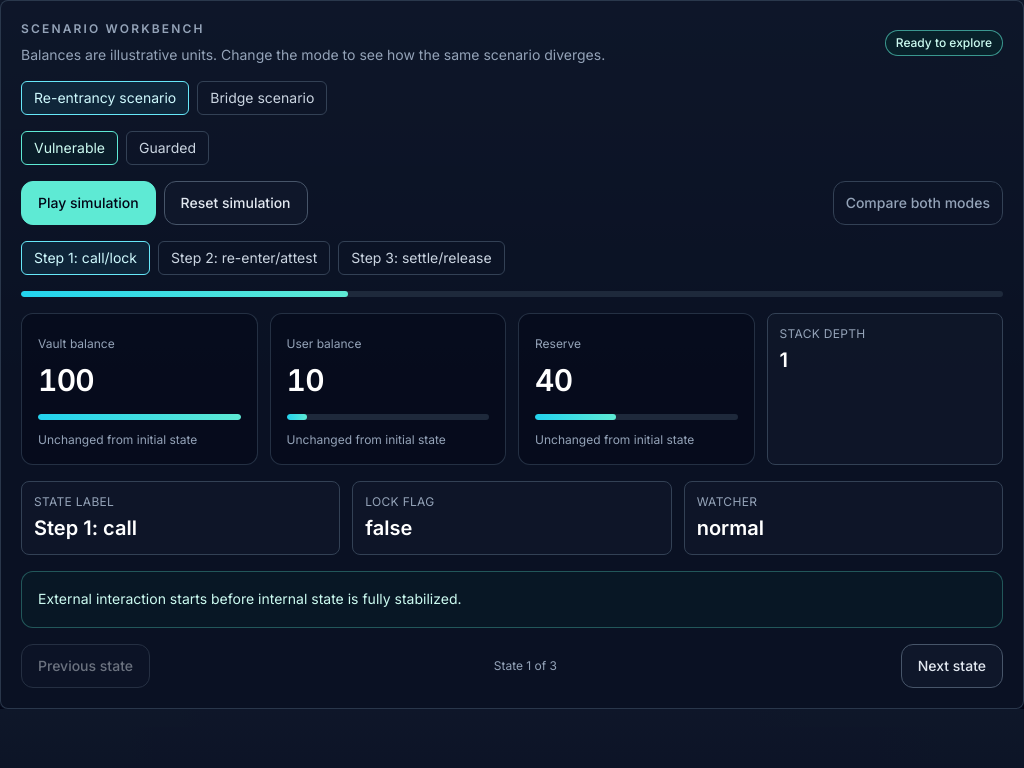
Test case: concept lab visualizer › updates state when mode and step change
Click the button "guarded" at (167, 148), box [126,131,209,165]
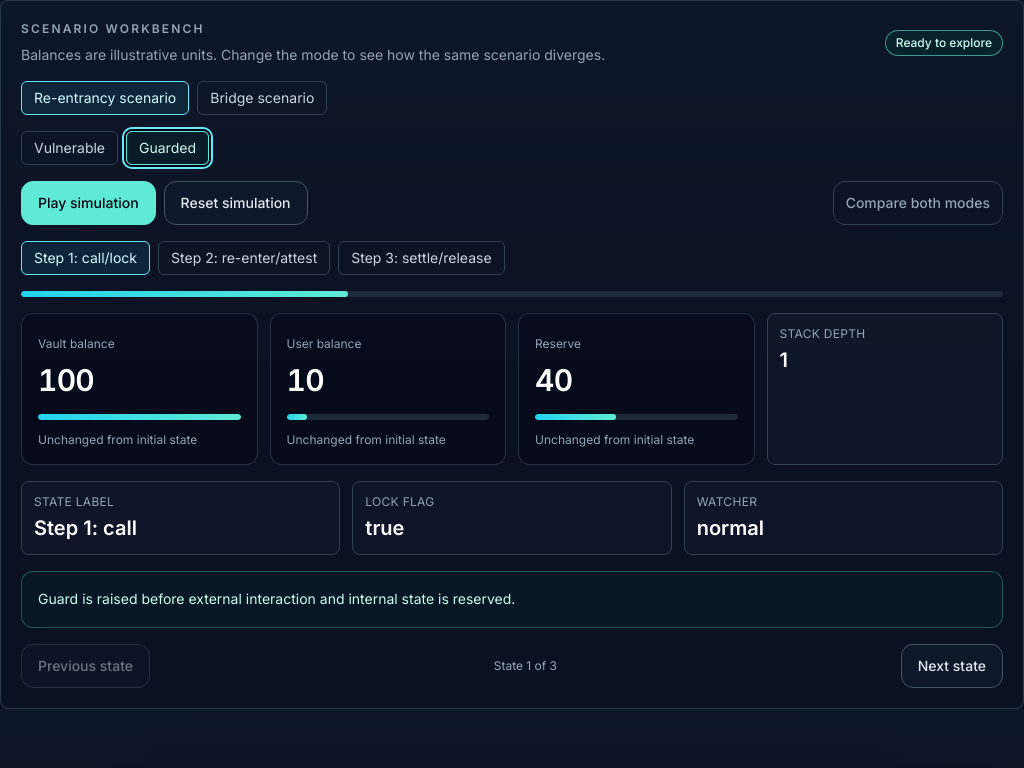
Click the button "Step 2: re-enter/attest" at (244, 258), box [158,241,330,275]
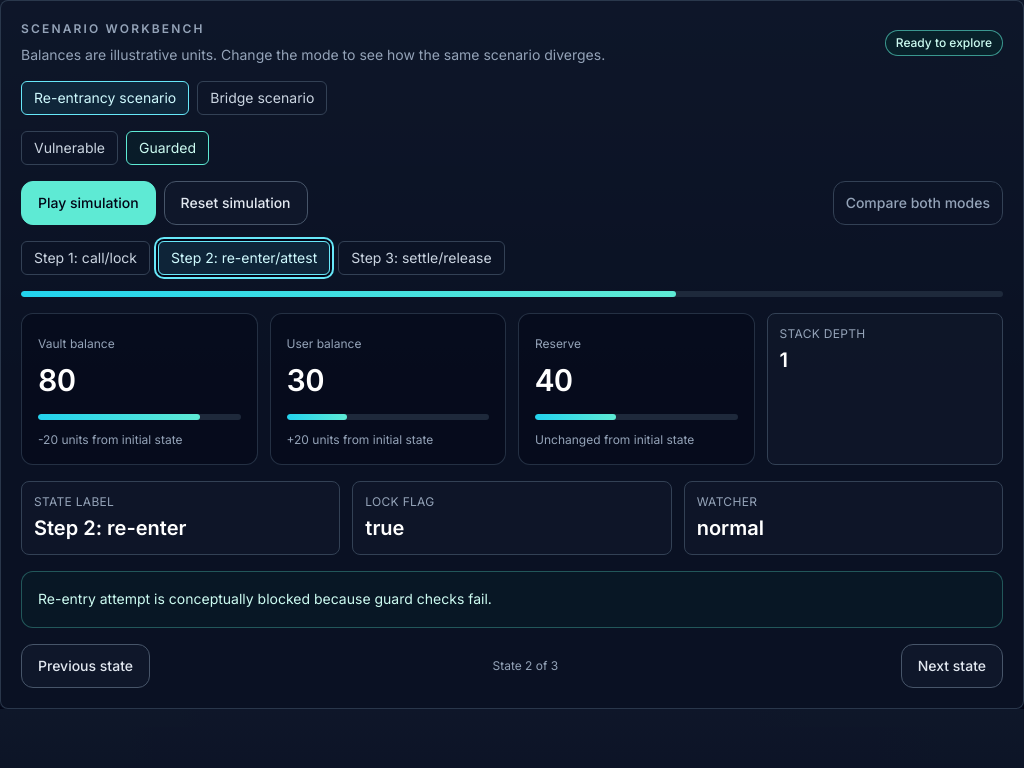
Expected: the text "normal" is shown, [697,516,764,540]
Expected: the text "Re-entry attempt is conceptually blocked" is shown, [38,590,492,607]
